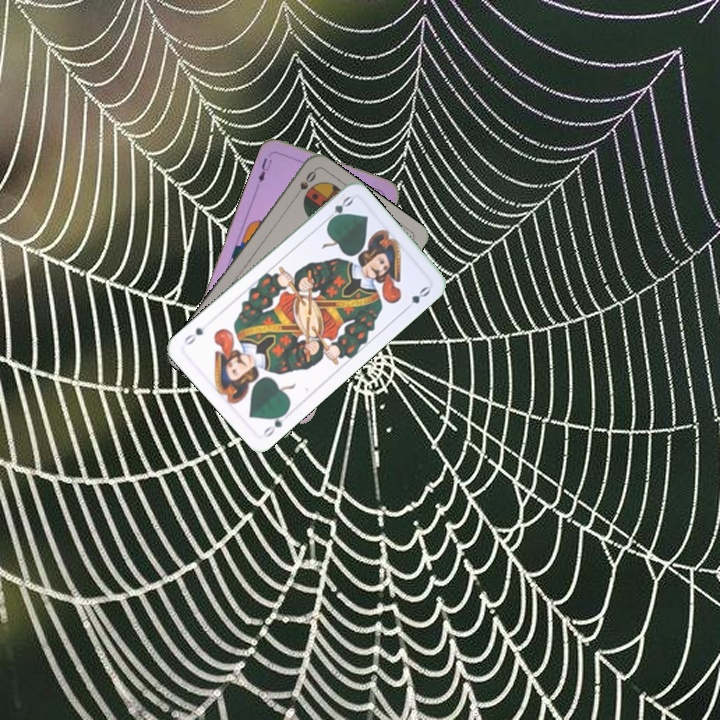EU: (254, 154, 275, 185)
GO: (321, 192, 356, 227), (259, 406, 291, 440)
SO: (290, 166, 319, 202)
